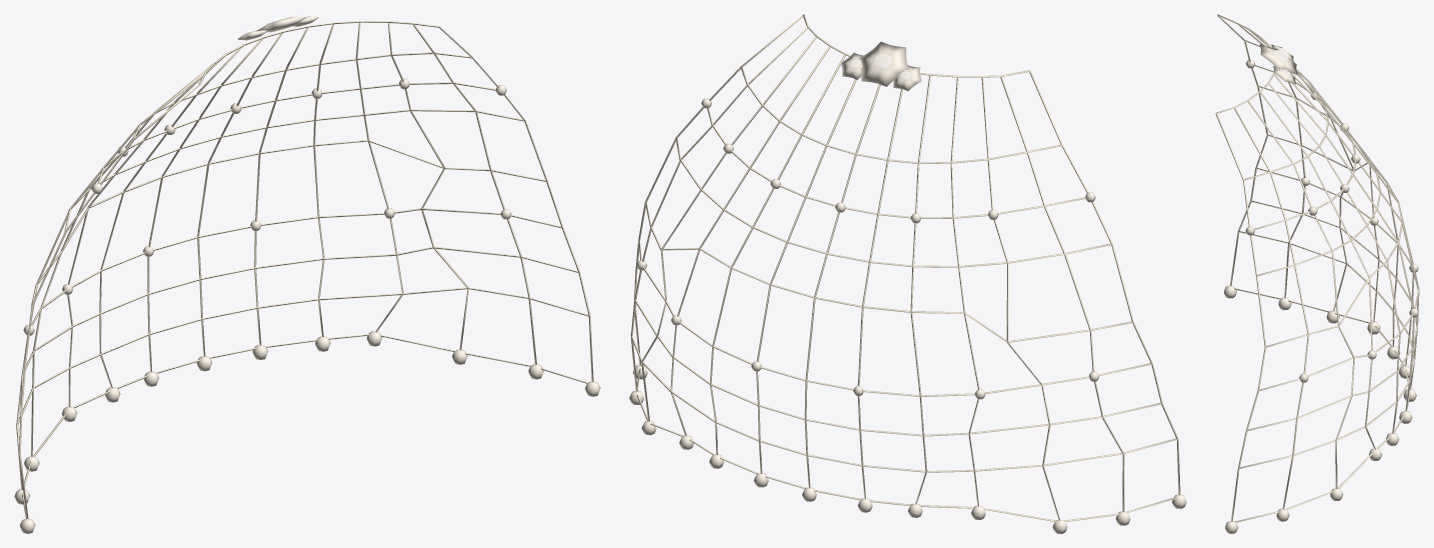
The model's file is pearl_veil.glb.
The picture shows the model from 3 angles, left to right: view 1: azimuth 30°, elevation 25°; view 2: azimuth 150°, elevation 25°; view 3: azimuth 270°, elevation 25°; orthographic projection. The views are drawn at different scales.
Parts seen in each view (by area): view 1: pearl_veil; view 2: pearl_veil; view 3: pearl_veil.
Boxes of the visible parts, x1,y1,x2,y2 form: pearl_veil: (14,14,600,533); pearl_veil: (629,14,1186,533); pearl_veil: (1215,14,1419,533).
Bounding box in the file's own units: 0.2767 × 0.1976 × 0.0995.
